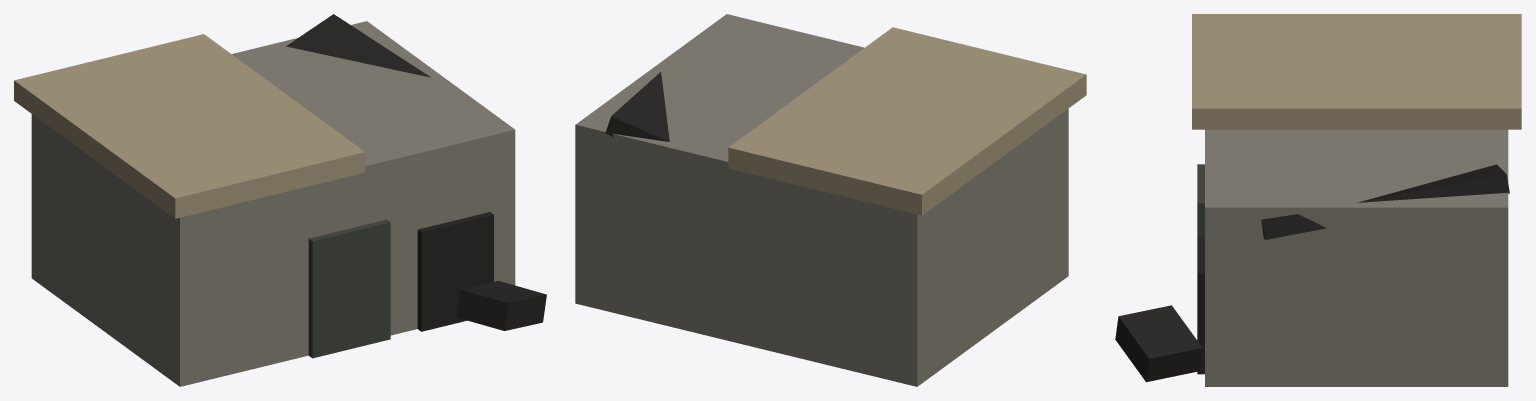
The model's file is RF_Prop_BuildingA_Damaged.glb.
3 views of the same model, side by side, from view 1: azimuth 30°, elevation 25°; view 2: azimuth 150°, elevation 25°; view 3: azimuth 270°, elevation 25° (orthographic). The views are drawn at different scales.
Parts seen in each view (by area): view 1: RF_Prop_BuildingA_Damaged; view 2: RF_Prop_BuildingA_Damaged; view 3: RF_Prop_BuildingA_Damaged.
Boxes of the visible parts, left/top/right/bottom form: RF_Prop_BuildingA_Damaged: left=14, top=14, right=546, bottom=386; RF_Prop_BuildingA_Damaged: left=575, top=14, right=1086, bottom=386; RF_Prop_BuildingA_Damaged: left=1115, top=14, right=1521, bottom=386.
Size of the model in its own units: 6.38 by 3.35 by 6.16.
